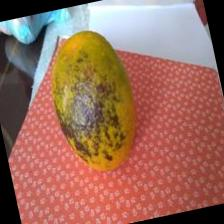Orange Rotten: (36, 19, 152, 182)
